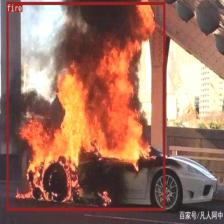fire: (6, 1, 165, 210)
